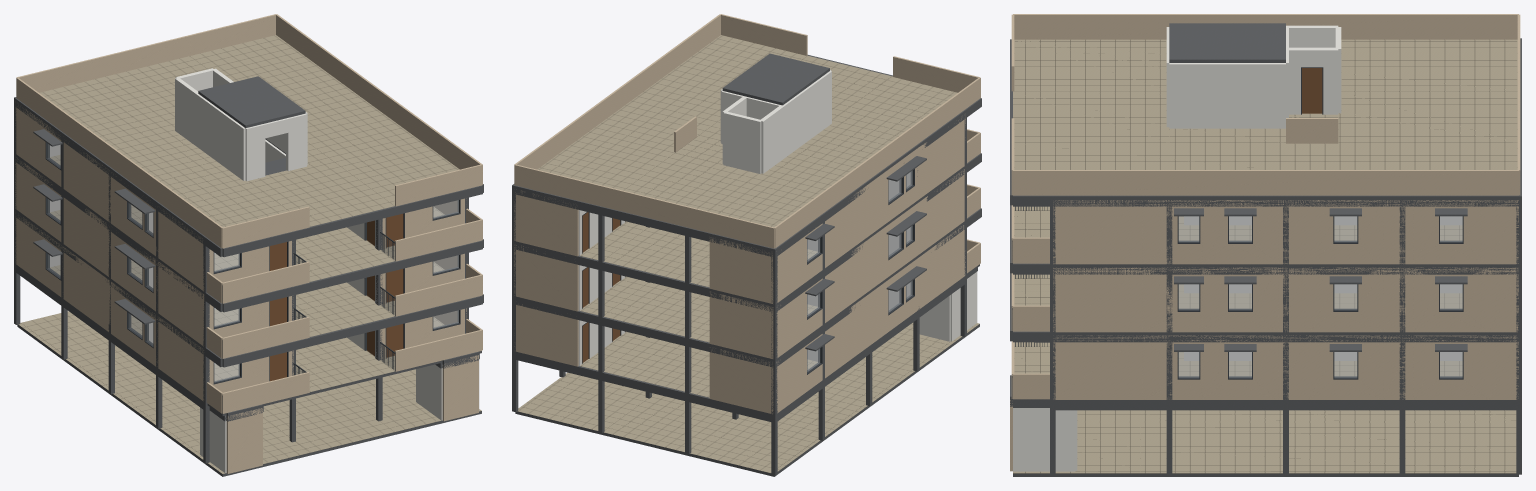
File: fixture-native-building_full_assembly.glb
The picture shows the model from 3 angles, left to right: view 1: azimuth 30°, elevation 25°; view 2: azimuth 150°, elevation 25°; view 3: azimuth 270°, elevation 25°; orthographic projection. The views are drawn at different scales.
Visible parts, largest first — view 1: synthesis:p1-elements:floor:4:room:Open terrace 1:floor-fini, synthesis:p1-elements:floor:4:room:Open terrace 0:floor-fini, synthesis:p1-elements:floor:4:room:Common entrance:floor-fin, synthesis:p1-elements:floor:0:room:Common entrance:floor-fin, synthesis:p1-elements:floor:0:room:Stilt circulation 0-2-4:f, synthesis:p1-elements:floor:4:wall:21, synthesis:p1-elements:floor:4:wall:23, synthesis:p1-elements:floor:1:room:Common entrance:floor-fin, synthesis:p1-elements:floor:2:room:Common entrance:floor-fin, synthesis:p1-elements:floor:3:room:Common entrance:floor-fin, synthesis:p1-elements:floor:4:room:Stair cover:mumty-cover:1, synthesis:p1-elements:floor:4:room:Open roof access:floor-fi (+60 smaller); view 2: synthesis:p1-elements:floor:4:room:Open terrace 1:floor-fini, synthesis:p1-elements:floor:4:room:Open terrace 0:floor-fini, synthesis:p1-elements:floor:0:room:Stilt circulation 0-2-4:f, synthesis:p1-elements:floor:4:wall:21, synthesis:p1-elements:floor:4:room:Open roof access:floor-fi, synthesis:p1-elements:floor:4:wall:23, synthesis:p1-elements:floor:0:room:Common rear lobby:floor-f, synthesis:p1-elements:floor:1:room:Common rear lobby:floor-f, synthesis:p1-elements:floor:2:room:Common rear lobby:floor-f, synthesis:p1-elements:floor:3:room:Common rear lobby:floor-f, synthesis:p1-elements:floor:2:wall:43, synthesis:p1-elements:floor:0:room:Stilt circulation 0-4-4:f (+58 smaller); view 3: synthesis:p1-elements:floor:4:room:Open terrace 0:floor-fini, synthesis:p1-elements:floor:4:room:Open terrace 1:floor-fini, synthesis:p1-elements:floor:4:wall:23, synthesis:p1-elements:floor:4:wall:21, synthesis:p1-elements:floor:0:room:Stilt circulation 1-2-4:f, synthesis:p1-elements:floor:4:room:Open roof access:floor-fi, synthesis:p1-elements:floor:4:room:Common entrance:floor-fin, synthesis:p1-elements:floor:4:wall:5, synthesis:p1-elements:floor:0:room:Stilt circulation 1-4-4:f, synthesis:p1-elements:floor:2:wall:48, synthesis:p1-elements:floor:3:wall:48, synthesis:p1-elements:floor:1:wall:48 (+68 smaller).
Boxes of the visible parts, <box> form: synthesis:p1-elements:floor:4:room:Open terrace 1:floor-fini: <box>191,35,459,205</box>; synthesis:p1-elements:floor:4:room:Open terrace 0:floor-fini: <box>39,77,287,227</box>; synthesis:p1-elements:floor:4:room:Common entrance:floor-fin: <box>247,159,394,226</box>; synthesis:p1-elements:floor:0:room:Common entrance:floor-fin: <box>263,388,394,452</box>; synthesis:p1-elements:floor:0:room:Stilt circulation 0-2-4:f: <box>21,314,199,434</box>; synthesis:p1-elements:floor:4:wall:21: <box>16,77,222,248</box>; synthesis:p1-elements:floor:4:wall:23: <box>276,14,482,184</box>; synthesis:p1-elements:floor:1:room:Common entrance:floor-fin: <box>296,337,395,392</box>; synthesis:p1-elements:floor:2:room:Common entrance:floor-fin: <box>296,282,394,336</box>; synthesis:p1-elements:floor:3:room:Common entrance:floor-fin: <box>296,227,395,281</box>; synthesis:p1-elements:floor:4:room:Stair cover:mumty-cover:1: <box>198,76,305,128</box>; synthesis:p1-elements:floor:4:room:Open roof access:floor-fi: <box>104,56,208,128</box>; synthesis:p1-elements:floor:4:room:Open terrace 1:floor-fini: <box>537,35,805,190</box>; synthesis:p1-elements:floor:4:room:Open terrace 0:floor-fini: <box>709,77,957,227</box>; synthesis:p1-elements:floor:0:room:Stilt circulation 0-2-4:f: <box>735,352,923,472</box>; synthesis:p1-elements:floor:4:wall:21: <box>774,77,980,248</box>; synthesis:p1-elements:floor:4:room:Open roof access:floor-fi: <box>623,152,759,211</box>; synthesis:p1-elements:floor:4:wall:23: <box>514,14,720,184</box>; synthesis:p1-elements:floor:0:room:Common rear lobby:floor-f: <box>604,393,739,452</box>; synthesis:p1-elements:floor:1:room:Common rear lobby:floor-f: <box>604,337,709,391</box>; synthesis:p1-elements:floor:2:room:Common rear lobby:floor-f: <box>604,282,709,336</box>; synthesis:p1-elements:floor:3:room:Common rear lobby:floor-f: <box>604,227,709,281</box>; synthesis:p1-elements:floor:2:wall:43: <box>709,291,773,358</box>; synthesis:p1-elements:floor:0:room:Stilt circulation 0-4-4:f: <box>690,349,886,464</box>; synthesis:p1-elements:floor:4:room:Open terrace 0:floor-fini: <box>1014,39,1517,91</box>; synthesis:p1-elements:floor:4:room:Open terrace 1:floor-fini: <box>1014,143,1517,169</box>; synthesis:p1-elements:floor:4:wall:23: <box>1013,170,1518,195</box>; synthesis:p1-elements:floor:4:wall:21: <box>1013,14,1518,39</box>; synthesis:p1-elements:floor:0:room:Stilt circulation 1-2-4:f: <box>1140,422,1516,448</box>; synthesis:p1-elements:floor:4:room:Open roof access:floor-fi: <box>1338,91,1517,142</box>; synthesis:p1-elements:floor:4:room:Common entrance:floor-fin: <box>1013,91,1169,142</box>; synthesis:p1-elements:floor:4:wall:5: <box>1169,63,1285,128</box>; synthesis:p1-elements:floor:0:room:Stilt circulation 1-4-4:f: <box>1140,450,1516,470</box>; synthesis:p1-elements:floor:2:wall:48: <box>1053,267,1142,332</box>; synthesis:p1-elements:floor:3:wall:48: <box>1053,200,1142,264</box>; synthesis:p1-elements:floor:1:wall:48: <box>1053,335,1142,399</box>.
Size of the model in its own units: 16.2 by 15.45 by 20.5.
8 materials, 4 textured.
